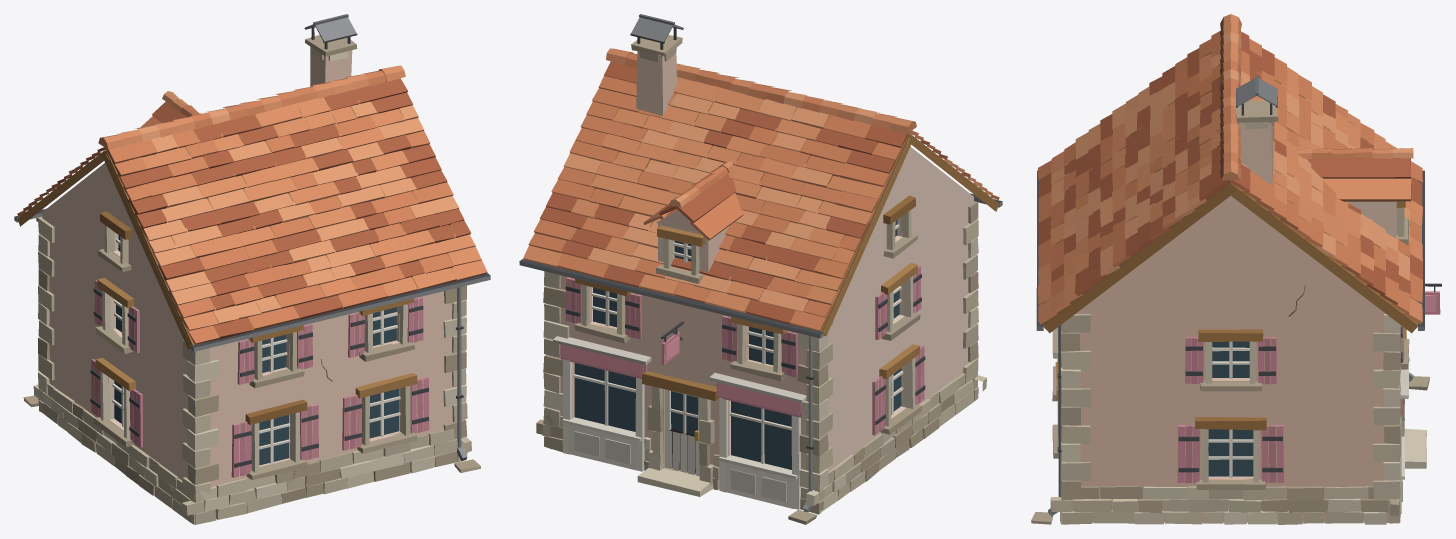
The model's file is mercerie.glb.
3 views of the same model, side by side, from view 1: azimuth 30°, elevation 25°; view 2: azimuth 150°, elevation 25°; view 3: azimuth 270°, elevation 25° (orthographic). The views are drawn at different scales.
Visible parts, largest first — view 1: mercerie; view 2: mercerie; view 3: mercerie.
Boxes of the visible parts, left/top/right/bottom form: mercerie: left=14, top=14, right=490, bottom=524; mercerie: left=519, top=14, right=1002, bottom=524; mercerie: left=1031, top=14, right=1441, bottom=524.
Size of the model in its own units: 7.84 by 9.69 by 8.66.
